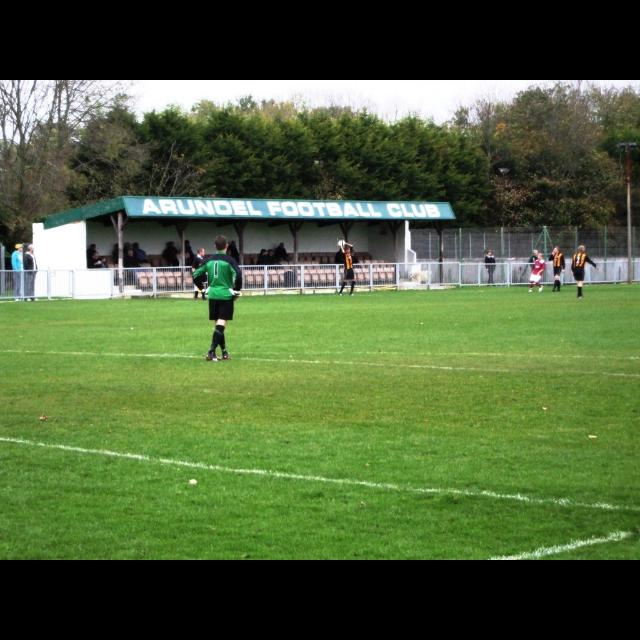Football: (337, 238, 343, 246)
